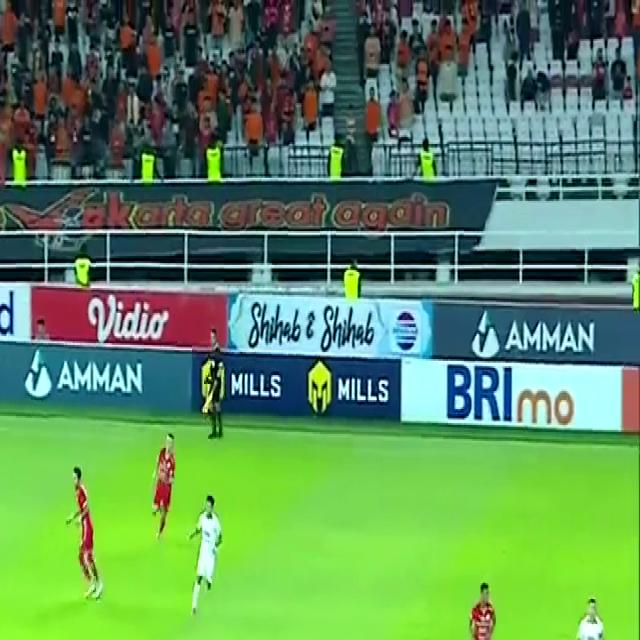soccer-player: (58, 457, 110, 608), (182, 493, 235, 613), (142, 437, 182, 544), (457, 572, 507, 640), (566, 595, 619, 640)
